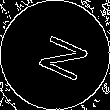N_NW: (24, 26, 86, 84)
